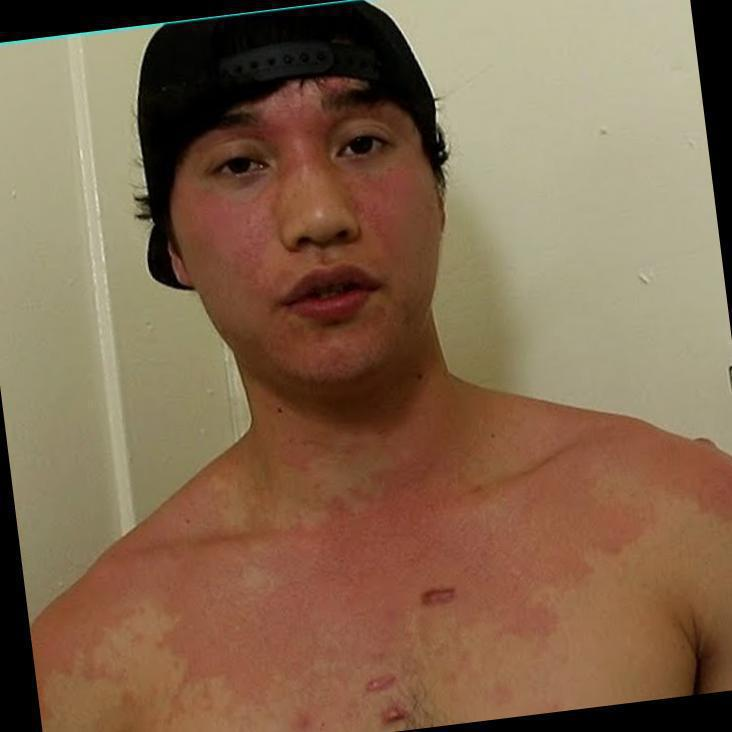Drunk: (186, 90, 438, 380)
